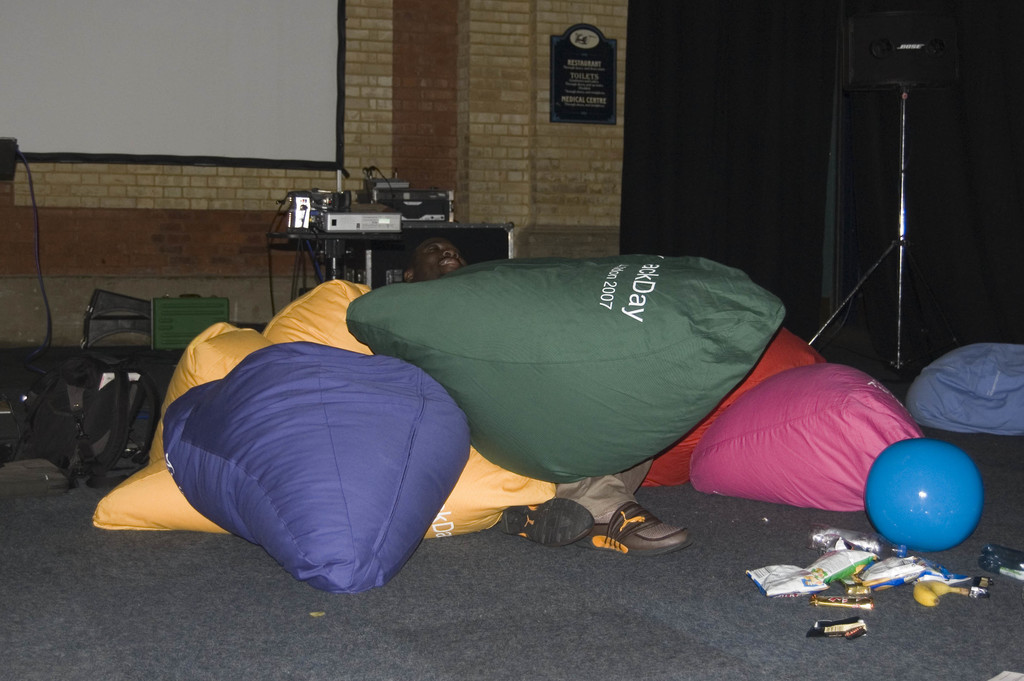Ball: (868, 438, 982, 552)
